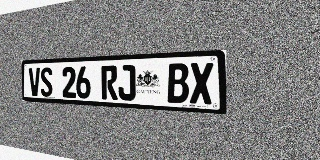2: (62, 67, 76, 98)
6: (76, 66, 91, 99)
B: (167, 63, 189, 103)
J: (118, 65, 136, 101)
R: (101, 65, 118, 100)
S: (40, 67, 53, 97)
V: (29, 68, 41, 96)
X: (190, 62, 213, 105)
